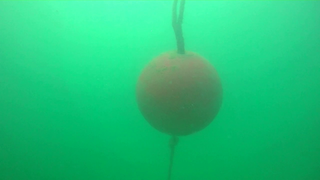buoy: (135, 50, 223, 136)
